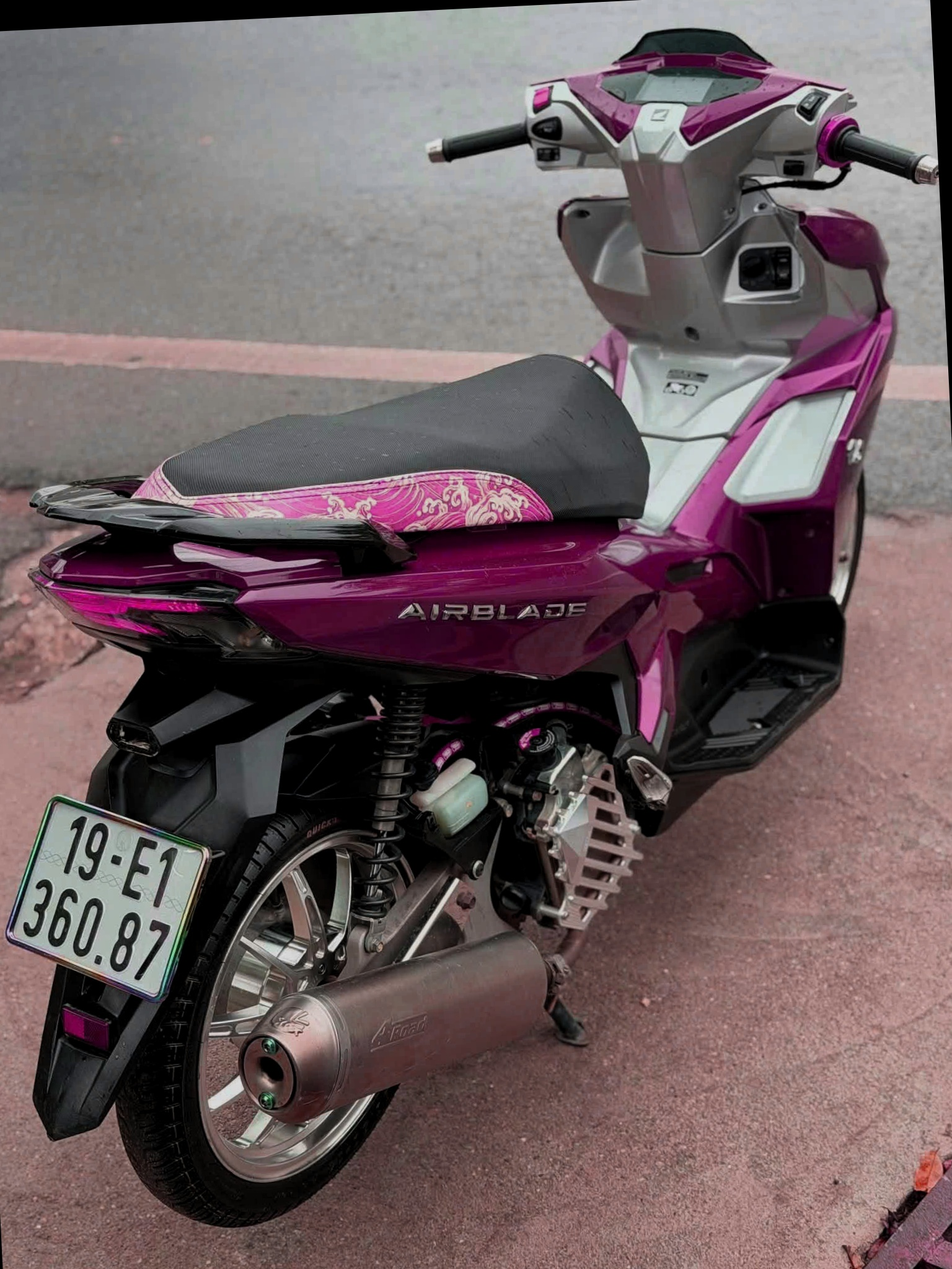Bien-so: (0, 783, 215, 1005)
